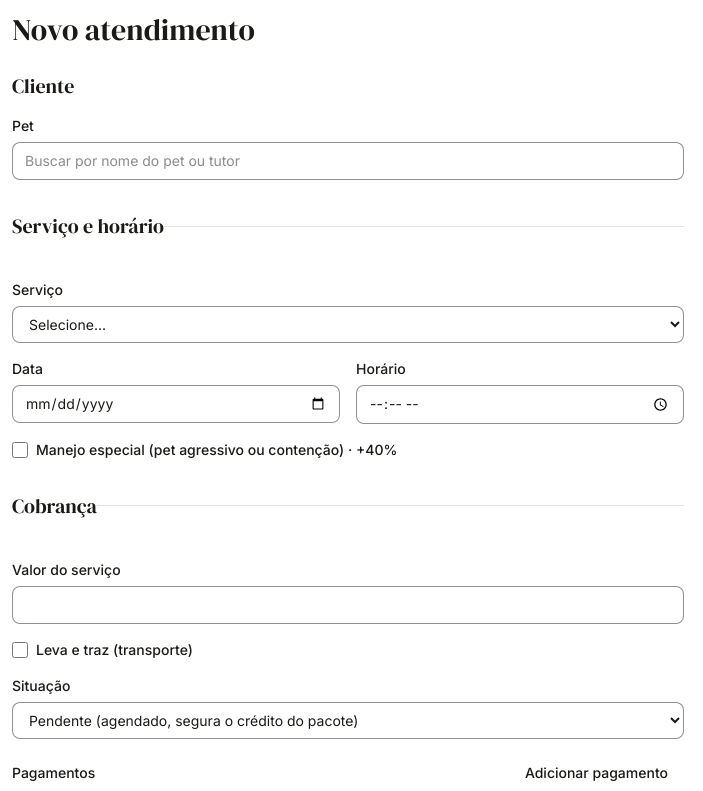
it: AtendimentoForm › manejo especial acrescenta 40% à sugestão
Type "Luna" into the dropdown labelled "Pet".
click(348, 161); type("Luna")  # box [12,142,684,180]
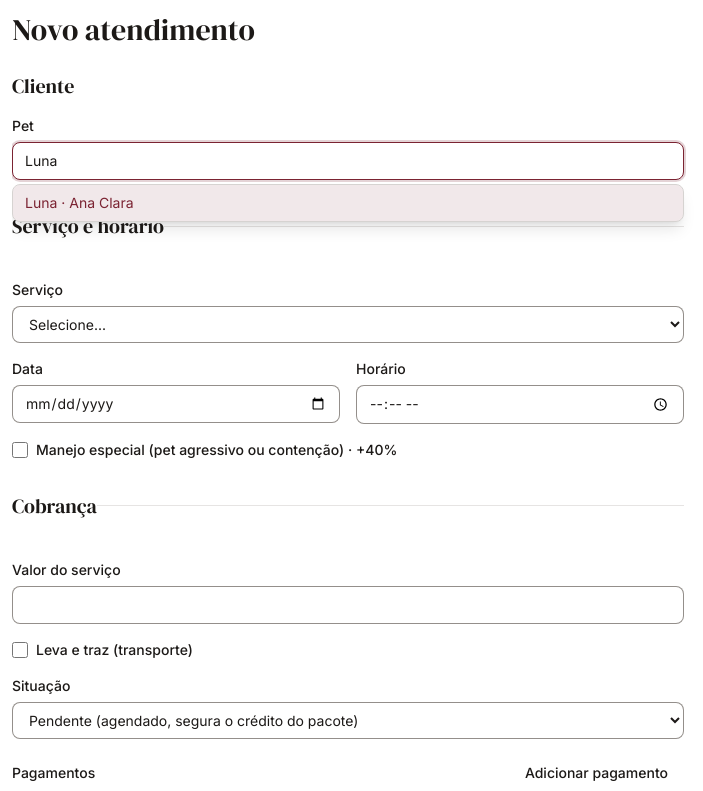
Check: the option "Luna · Ana Clara" is shown
Click the option "Luna · Ana Clara".
click(79, 202)  # box [13,185,683,221]
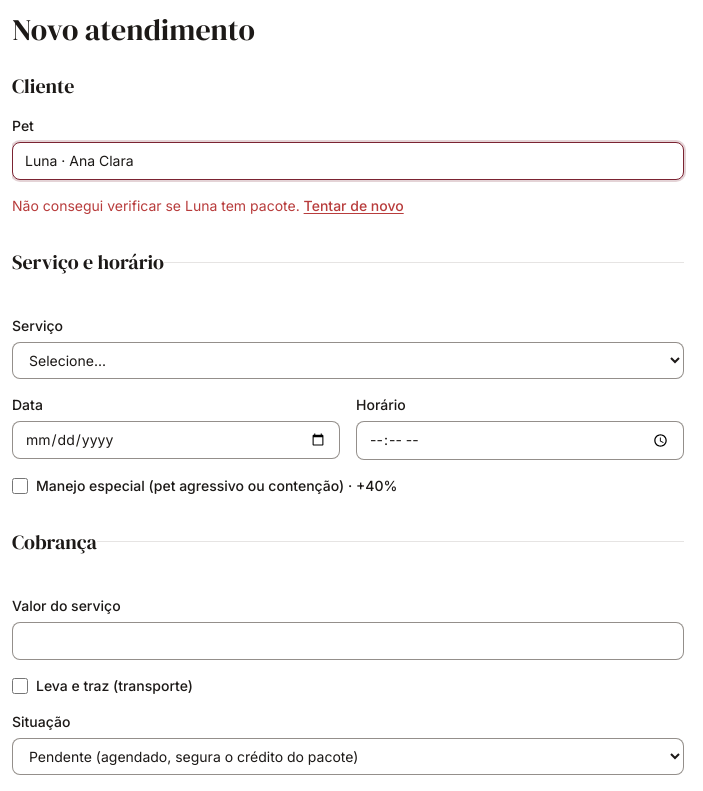
Select "Banho" in the dropdown labelled "Serviço" at (348, 360), box [12,342,684,379]
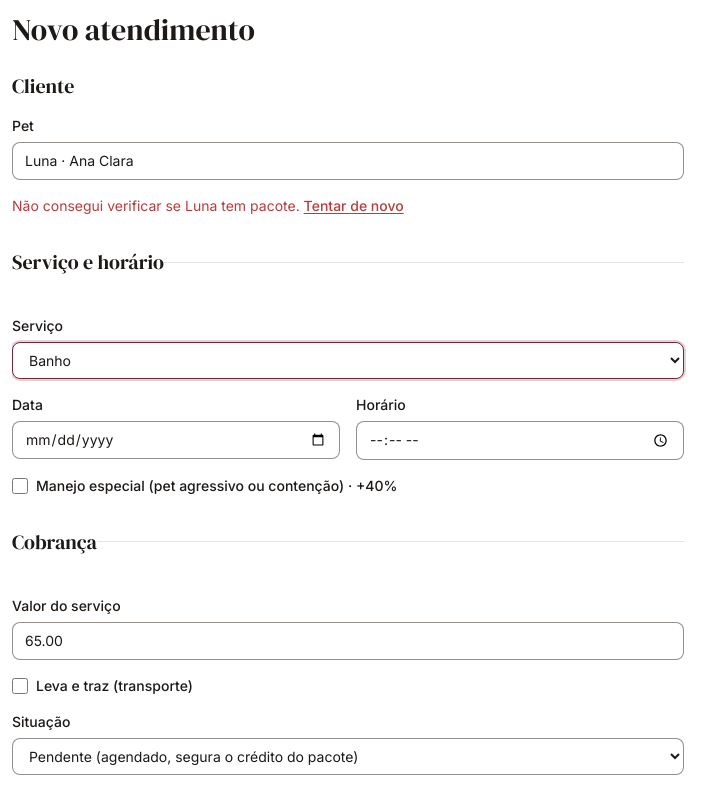
Check: the field labelled "Valor do serviço" holds "65.00", box [12,622,684,660]
Click the checkbox labelled "Manejo especial (pet agressivo ou contenção) · +40%".
click(20, 486)  # box [12,478,28,494]
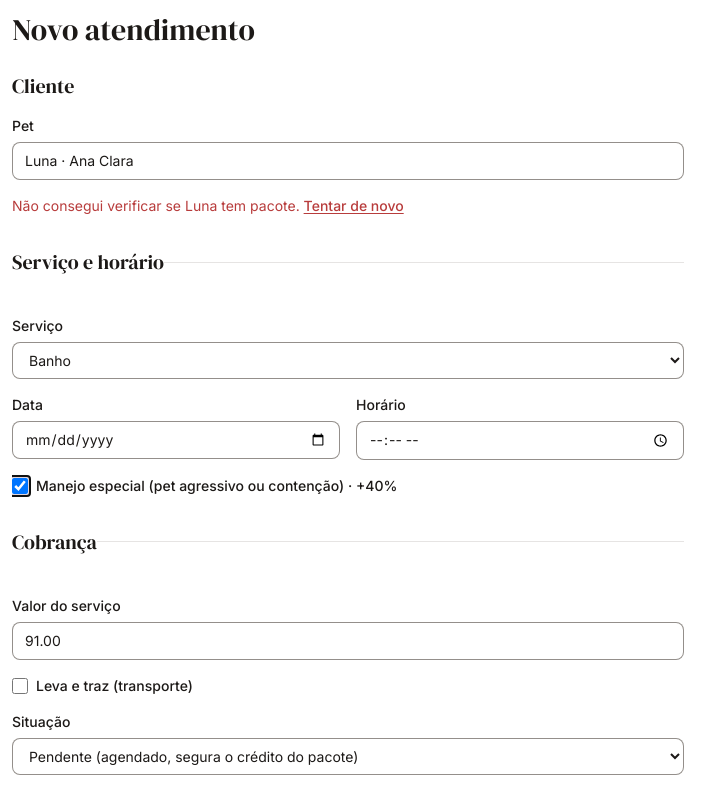
Check: the field labelled "Valor do serviço" holds "91.00", box [12,622,684,660]
